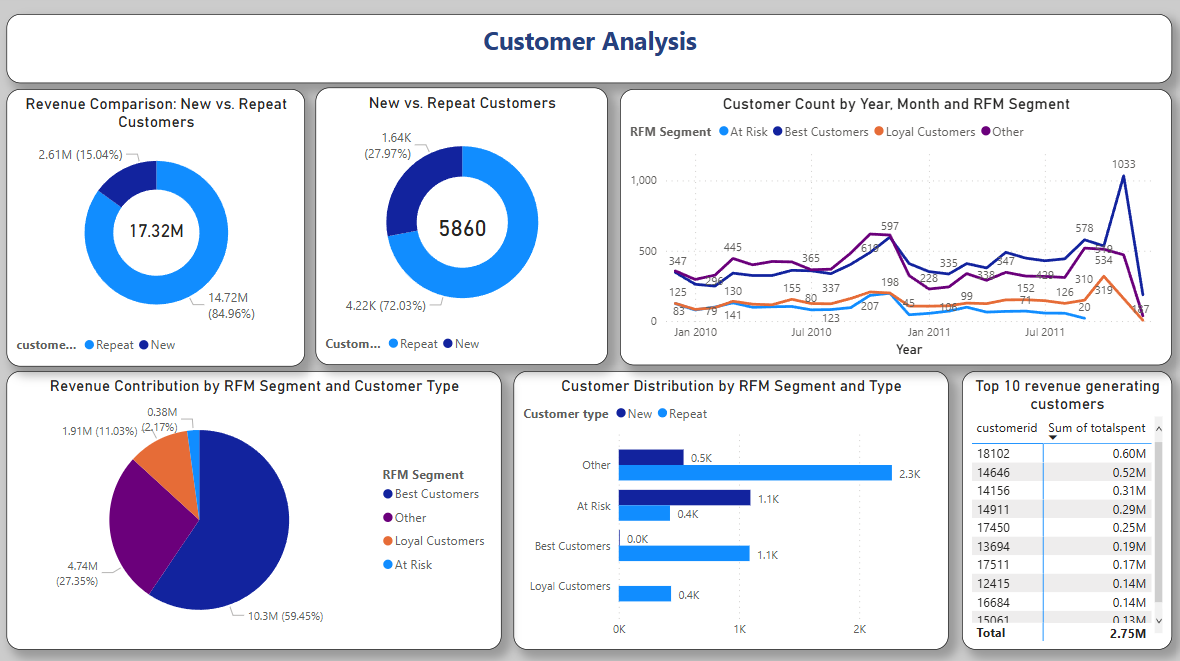

The dashboard page shown, as its layout file describes it:
{"tool":"powerbi","page":{"name":"Customer Analysis","canvas":[1280,720],"ordinal":1},"visuals":[{"type":"clusteredBarChart","title":"Customer Distribution by RFM Segment and Type","fields":{"Category":["public customer_rfm.RFM Segment"],"Series":["public customer_rfm.Customer type"],"Y":["Count(public customer_rfm.customerid)"]},"box":[558.2,407.7,469.2,300.9],"z":0},{"type":"pieChart","title":"Revenue Contribution by RFM Segment and Customer Type","fields":{"Category":["public customer_rfm.RFM Segment"],"Y":["Sum(public customer_type.revenue)"]},"box":[11.3,407.7,533.9,300.9],"z":1000},{"type":"textbox","box":[11.3,22.7,1257.2,74.4],"z":2000},{"type":"donutChart","title":"Revenue Comparison: New vs. Repeat Customers","fields":{"Category":["public customer_type.customertype"],"Y":["Sum(public customer_type.revenue)"]},"box":[11.3,103.6,322,299.3],"z":3000},{"type":"donutChart","title":"New vs. Repeat Customers","fields":{"Category":["public customer_rfm.Customer type"],"Y":["Count(public customer_rfm.customerid)"]},"box":[344.6,101.9,315.5,299.3],"z":4000},{"type":"pivotTable","title":"Top 10  revenue generating customers ","fields":{"Rows":["public top_customers.customerid"],"Values":["Sum(public top_customers.totalspent)"]},"box":[1042,407.7,226.5,300.9],"z":5000},{"type":"card","fields":{"Values":["Count(public customer_type.customerid)"]},"box":[467.6,224.9,69.6,55],"z":6000},{"type":"card","fields":{"Values":["public clean_sales.Total Revenue"]},"box":[135.9,229.8,72.8,53.4],"z":7000},{"type":"lineChart","title":"Customer Count by Year, Month and RFM Segment","fields":{"Category":["public clean_sales.invoicedate.Variation.Date Hierarchy.Year","public clean_sales.invoicedate.Variation.Date Hierarchy.Month"],"Y":["Count(public clean_sales.customerid)"],"Series":["public customer_rfm.RFM Segment"]},"box":[673.1,103.6,595.4,297.7],"z":8000}]}

Visuals, with their boxes in screenshot pixels (x1, y1, x2, y2), scaled from the page's 1280x720 canvas onto the 1180x661 screenshot:
"Customer Distribution by RFM Segment and Type" clusteredBarChart: BBox(515, 374, 947, 651)
"Revenue Contribution by RFM Segment and Customer Type" pieChart: BBox(10, 374, 503, 651)
textbox: BBox(10, 21, 1169, 89)
"Revenue Comparison: New vs. Repeat Customers" donutChart: BBox(10, 95, 307, 370)
"New vs. Repeat Customers" donutChart: BBox(318, 94, 609, 368)
"Top 10  revenue generating customers " pivotTable: BBox(961, 374, 1169, 651)
card - Count(public customer_type.customerid): BBox(431, 206, 495, 257)
card - public clean_sales.Total Revenue: BBox(125, 211, 192, 260)
"Customer Count by Year, Month and RFM Segment" lineChart: BBox(621, 95, 1169, 368)
